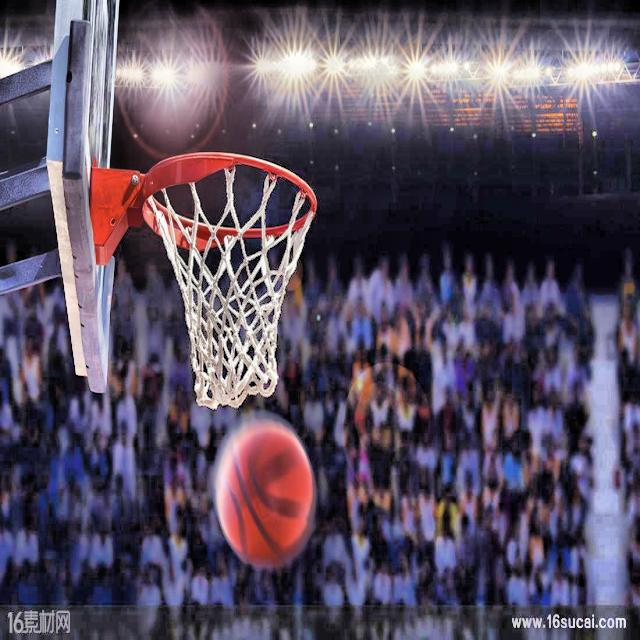rim: (146, 155, 317, 411)
